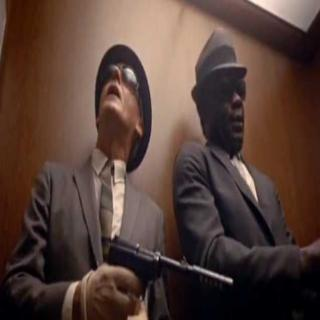gun: (76, 224, 236, 319)
